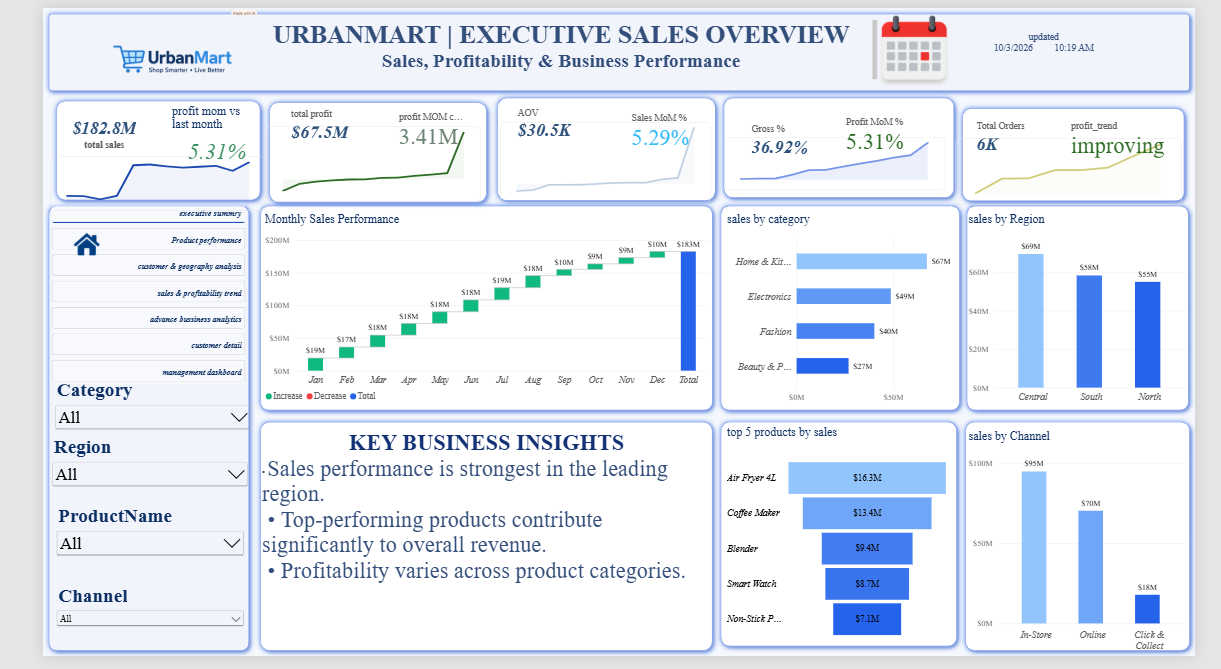

This screenshot's page, from the dashboard's own definition file:
{"tool":"powerbi","page":{"name":"executive summry","canvas":[1920,1080],"ordinal":0},"visuals":[{"type":"shape","box":[1124.6,140.8,403.2,186.1],"z":0,"group":"g9"},{"type":"shape","box":[746.9,141.5,383,190.9],"z":0,"group":"g2"},{"type":"group","id":"g1","title":"Group 2","box":[11.9,145.3,360.3,190.9],"z":0,"group":"g12"},{"type":"shape","box":[11.9,145.3,359.6,185],"z":0,"group":"g1"},{"type":"cardVisual","title":"total sales","fields":{"Data":["kpis.AOV"]},"box":[755.5,146,375.5,144.5],"z":0,"group":"g3"},{"type":"cardVisual","title":"total sales","fields":{"Data":["kpis.total profit"]},"box":[377.3,147.9,361.8,137.1],"z":0,"group":"g4"},{"type":"shape","box":[365.9,148.6,381.7,186.1],"z":0,"group":"g8"},{"type":"shape","box":[1522.8,158.1,389.5,174],"z":0,"group":"g10"},{"type":"cardVisual","title":"total sales","fields":{"Data":["kpis.total sales"]},"box":[11.9,162.5,359.6,129.9],"z":0,"group":"g5"},{"type":"cardVisual","title":"total sales","fields":{"Data":["kpis.Total Orders"]},"box":[1519.7,167.8,389.5,122.1],"z":0,"group":"g6"},{"type":"cardVisual","title":"total sales","fields":{"Data":["kpis.Gross %"]},"box":[1145.5,174.3,333.5,110.8],"z":0,"group":"g7"},{"type":"shape","box":[1119,319.7,417.5,360.3],"z":0},{"type":"group","id":"g2","title":"Group 2","box":[746.9,141.5,384.1,190.9],"z":1000,"group":"g12"},{"type":"group","id":"g3","title":"Group 1","box":[755.5,143.4,375.5,181.7],"z":1000,"group":"g2"},{"type":"group","id":"g4","title":"Group 1","box":[371.6,144.1,367.4,186.1],"z":1000,"group":"g8"},{"type":"group","id":"g5","title":"Group 1","box":[11.9,159.2,359.6,176.4],"z":1000,"group":"g1"},{"type":"group","id":"g6","title":"Group 1","box":[1519.7,165,389.5,162.3],"z":1000,"group":"g10"},{"type":"group","id":"g7","title":"Group 1","box":[1134.6,169.2,368.4,137],"z":1000,"group":"g9"},{"type":"lineChart","fields":{"Category":["DimDate.Month Name"],"Y":["kpis.Sales MoM %"]},"box":[763.4,191.4,350.5,133.7],"z":1000,"group":"g3"},{"type":"lineChart","fields":{"Category":["DimDate.Month Name"],"Y":["kpis.profit MOM change"]},"box":[371.6,198.1,356.9,125.5],"z":1000,"group":"g4"},{"type":"lineChart","fields":{"Category":["DimDate.Month Name"],"Y":["kpis.Gross %"]},"box":[1134.6,216.5,368.4,88.6],"z":1000,"group":"g7"},{"type":"lineChart","fields":{"Category":["DimDate.Month Name"],"Y":["kpis.Previous Year Sales"]},"box":[1520,217.6,377.8,109.7],"z":1000,"group":"g6"},{"type":"lineChart","fields":{"Category":["DimDate.Month Name"],"Y":["kpis.total sales"]},"box":[11.9,245.8,359.6,89.9],"z":1000,"group":"g5"},{"type":"shape","box":[1530.6,319.7,388.9,360.3],"z":1000},{"type":"cardVisual","title":"profit mom vs last month","fields":{"Data":["kpis.Sales MoM %"]},"box":[964.8,143.4,145.2,129.8],"z":2000,"group":"g3"},{"type":"group","id":"g8","title":"Group 2","box":[365.9,144.1,381.7,190.6],"z":2000,"group":"g12"},{"type":"cardVisual","title":"profit mom vs last month","fields":{"Data":["kpis.profit MOM change"]},"box":[577.7,144.1,142.3,125.5],"z":2000,"group":"g4"},{"type":"cardVisual","title":"profit mom vs last month","fields":{"Data":["kpis.Profit MoM %"]},"box":[213.3,159.2,139,97.8],"z":2000,"group":"g5"},{"type":"cardVisual","title":"profit mom vs last month","fields":{"Data":["kpis.profit_trend"]},"box":[1697.5,165,192.2,109.7],"z":2000,"group":"g6"},{"type":"cardVisual","title":"profit mom vs last month","fields":{"Data":["kpis.Profit MoM %"]},"box":[1322.4,169.2,136.7,93.7],"z":2000,"group":"g7"},{"type":"shape","box":[1527,680,393.7,400.8],"z":2000},{"type":"group","id":"g9","title":"Group 2","box":[1124.6,140.8,403.2,186.1],"z":3000,"group":"g12"},{"type":"shape","box":[1119,680,412.8,393.7],"z":3000},{"type":"group","id":"g10","title":"Group 2","box":[1519.7,158.1,391.3,174.2],"z":4000,"group":"g12"},{"type":"shape","box":[0,319.7,353.1,761.1],"z":4000},{"type":"group","id":"g11","title":"Group 3","box":[1417.2,343.4,503.5,143.4],"z":5000},{"type":"barChart","title":"    sales by category","fields":{"Category":["Dim_Product.Category"],"Y":["kpis.total net sales"]},"box":[1140.5,341.2,391.3,319.7],"z":6000},{"type":"columnChart","title":"  sales by Region","fields":{"Category":["Dim_Customer.Region"],"Y":["kpis.total net sales"]},"box":[1543.7,341.2,365,319.7],"z":7000},{"type":"funnel","title":"top 5 products by sales","fields":{"Category":["Dim_Product.ProductName"],"Y":["kpis.total net sales"]},"box":[1140.5,694.3,369.8,372.2],"z":8000},{"type":"columnChart","title":" sales by Channel","fields":{"Category":["Fact_Sales.Channel"],"Y":["kpis.total net sales"]},"box":[1543.7,701.5,362.7,372.2],"z":9000},{"type":"slicer","fields":{"Values":["Dim_Product.Category"]},"box":[14.3,618,336.4,124.1],"z":10000},{"type":"slicer","fields":{"Values":["Dim_Store.Region"]},"box":[9.5,713.4,336.4,114.5],"z":11000},{"type":"shape","box":[0,0,1920.7,147.9],"z":12000},{"type":"slicer","fields":{"Values":["Dim_Product.ProductName"]},"box":[16.7,827.9,322.1,119.3],"z":13000},{"type":"slicer","fields":{"Values":["Fact_Sales.Channel"]},"box":[16.7,959.1,322.1,114.5],"z":14000},{"type":"shape","box":[353.1,319.7,773,360.3],"z":15000},{"type":"waterfallChart","title":" Monthly Sales Performance","fields":{"Category":["DimDate.Month Name"],"Y":["kpis.total sales"]},"box":[369.8,338.8,739.6,322.1],"z":16000},{"type":"pageNavigator","box":[14.3,322.1,322.1,305.4],"z":17000},{"type":"image","box":[1340.9,0,224.3,136],"z":18000},{"type":"textbox","box":[1517.4,40.6,300.6,78.7],"z":19000},{"type":"image","box":[9.5,367.4,126.5,52.5],"z":20000},{"type":"textbox","box":[1417.2,343.4,503.5,143.4],"z":20007,"group":"g11"},{"type":"image","box":[0,0,434.2,190.9],"z":21000},{"type":"group","id":"g12","title":"Group 4","box":[11.9,140.8,1899.1,195.4],"z":22000},{"type":"textbox","box":[346,19.1,1045,116.9],"z":23000},{"type":"shape","box":[353.1,680,773,400.8],"z":23001},{"type":"textbox","box":[365,701.5,749.2,365],"z":23002}]}

Visuals, with their boxes in screenshot pixels (x1, y1, x2, y2), scaled from the page's 1920x1080 canvas onto the 1221x669 screenshot:
shape: rect(715, 87, 972, 202)
shape: rect(475, 88, 719, 206)
"Group 2" group: rect(8, 90, 237, 208)
shape: rect(8, 90, 236, 205)
"total sales" cardVisual: rect(480, 90, 719, 180)
"total sales" cardVisual: rect(240, 92, 470, 177)
shape: rect(233, 92, 475, 207)
shape: rect(968, 98, 1216, 206)
"total sales" cardVisual: rect(8, 101, 236, 181)
"total sales" cardVisual: rect(966, 104, 1214, 180)
"total sales" cardVisual: rect(728, 108, 941, 177)
shape: rect(712, 198, 977, 421)
"Group 2" group: rect(475, 88, 719, 206)
"Group 1" group: rect(480, 89, 719, 201)
"Group 1" group: rect(236, 89, 470, 205)
"Group 1" group: rect(8, 99, 236, 208)
"Group 1" group: rect(966, 102, 1214, 203)
"Group 1" group: rect(722, 105, 956, 190)
lineChart - DimDate.Month Name x kpis.Sales MoM %: rect(485, 119, 708, 201)
lineChart - DimDate.Month Name x kpis.profit MOM change: rect(236, 123, 463, 200)
lineChart - DimDate.Month Name x kpis.Gross %: rect(722, 134, 956, 189)
lineChart - DimDate.Month Name x kpis.Previous Year Sales: rect(967, 135, 1207, 203)
lineChart - DimDate.Month Name x kpis.total sales: rect(8, 152, 236, 208)
shape: rect(973, 198, 1220, 421)
"profit mom vs last month" cardVisual: rect(614, 89, 706, 169)
"Group 2" group: rect(233, 89, 475, 207)
"profit mom vs last month" cardVisual: rect(367, 89, 458, 167)
"profit mom vs last month" cardVisual: rect(136, 99, 224, 159)
"profit mom vs last month" cardVisual: rect(1080, 102, 1202, 170)
"profit mom vs last month" cardVisual: rect(841, 105, 928, 163)
shape: rect(971, 421, 1220, 668)
"Group 2" group: rect(715, 87, 972, 202)
shape: rect(712, 421, 974, 665)
"Group 2" group: rect(966, 98, 1215, 206)
shape: rect(0, 198, 225, 668)
"Group 3" group: rect(901, 213, 1220, 302)
"    sales by category" barChart: rect(725, 211, 974, 409)
"  sales by Region" columnChart: rect(982, 211, 1214, 409)
"top 5 products by sales" funnel: rect(725, 430, 960, 661)
" sales by Channel" columnChart: rect(982, 435, 1212, 665)
slicer - Dim_Product.Category: rect(9, 383, 223, 460)
slicer - Dim_Store.Region: rect(6, 442, 220, 513)
shape: rect(0, 0, 1220, 92)
slicer - Dim_Product.ProductName: rect(11, 513, 215, 587)
slicer - Fact_Sales.Channel: rect(11, 594, 215, 665)
shape: rect(225, 198, 716, 421)
" Monthly Sales Performance" waterfallChart: rect(235, 210, 706, 409)
pageNavigator: rect(9, 200, 214, 389)
image: rect(853, 0, 995, 84)
textbox: rect(965, 25, 1156, 74)
image: rect(6, 228, 86, 260)
textbox: rect(901, 213, 1220, 302)
image: rect(0, 0, 276, 118)
"Group 4" group: rect(8, 87, 1215, 208)
textbox: rect(220, 12, 885, 84)
shape: rect(225, 421, 716, 668)
textbox: rect(232, 435, 709, 661)
